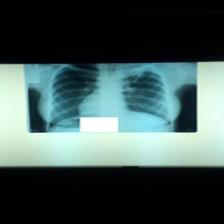tuberculosis: (46, 62, 176, 133)
